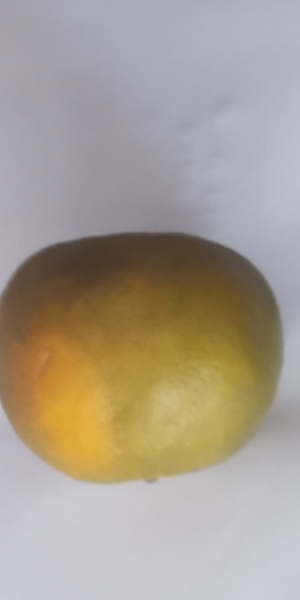BAD: (1, 211, 279, 483)
